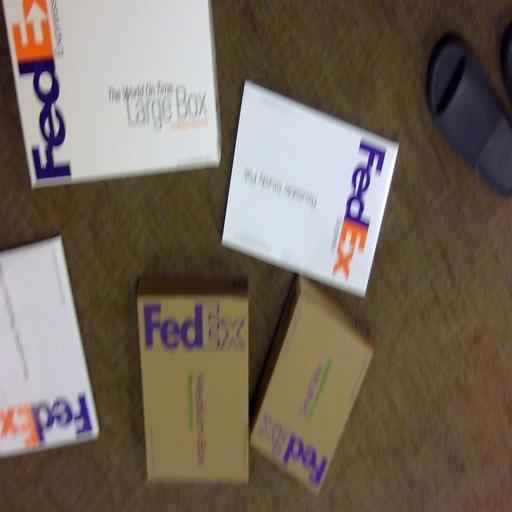Amazon: (0, 0, 230, 178), (229, 89, 414, 299), (135, 278, 258, 488), (256, 277, 371, 490), (0, 244, 106, 459)
